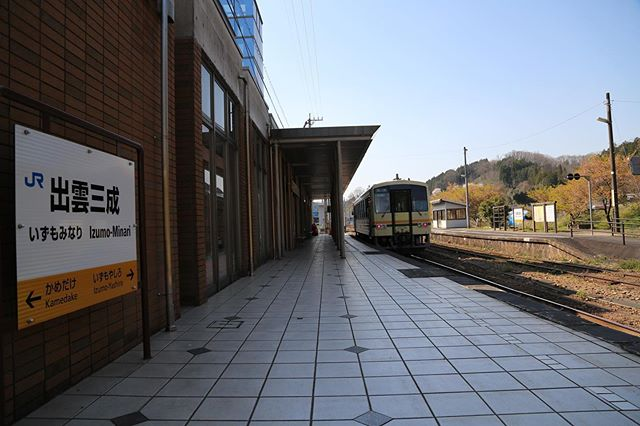building: (18, 1, 292, 406)
sign: (8, 139, 151, 307)
sky: (279, 1, 640, 160)
train: (343, 174, 437, 251)
train track: (420, 240, 640, 340)
